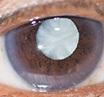eye: (7, 17, 103, 89)
